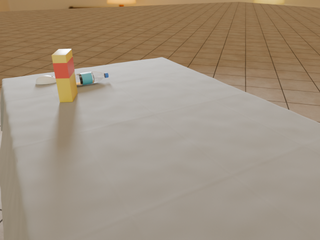bottle: (75, 72, 108, 86)
box: (52, 49, 77, 102)
mouse: (36, 76, 56, 84)
